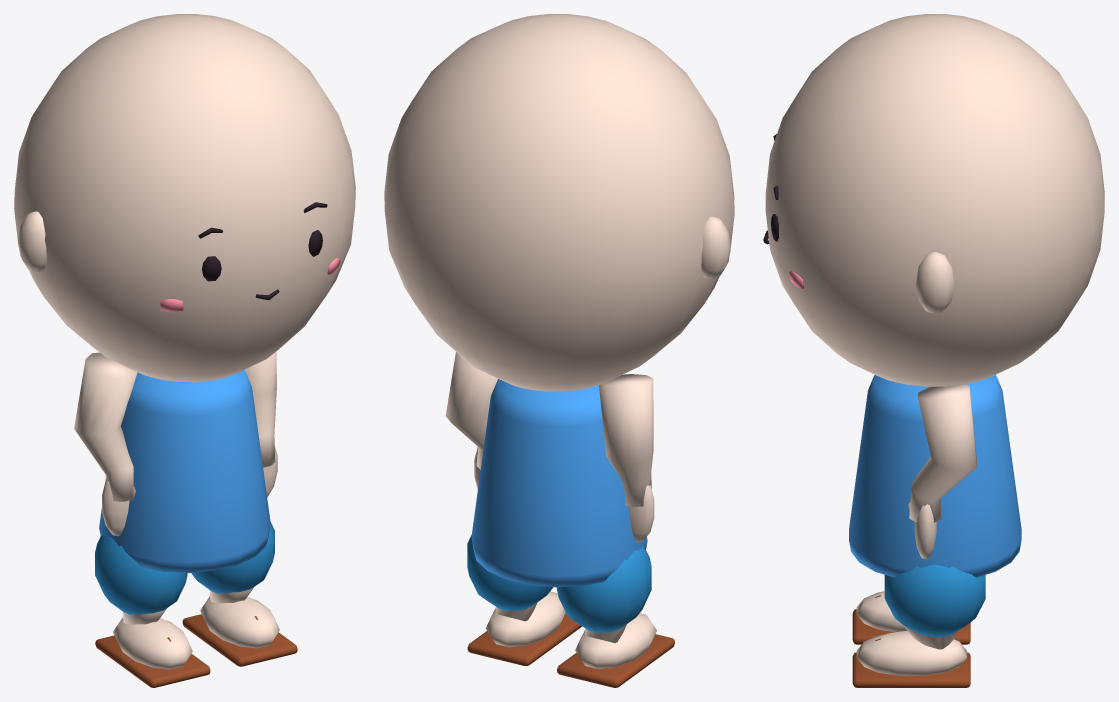
File: hero-girl-tiny.glb
The picture shows the model from 3 angles, left to right: view 1: azimuth 30°, elevation 25°; view 2: azimuth 150°, elevation 25°; view 3: azimuth 270°, elevation 25°; orthographic projection. The views are drawn at different scales.
Parts seen in each view (by area): view 1: head, body, leg-left, leg-right, arm-left, arm-right; view 2: head, body, leg-left, leg-right, arm-left, arm-right; view 3: head, body, leg-right, arm-right, leg-left.
Part boxes in pixels (box(x1,y1,x2,y2)): head: box(14, 14, 355, 382); body: box(99, 370, 270, 572); leg-left: box(95, 533, 210, 687); leg-right: box(182, 522, 297, 666); arm-left: box(74, 352, 137, 536); arm-right: box(245, 351, 277, 496); head: box(384, 14, 734, 391); body: box(471, 379, 647, 587); leg-left: box(556, 547, 674, 687); leg-right: box(467, 535, 581, 665); arm-left: box(599, 374, 654, 542); arm-right: box(445, 352, 497, 489); head: box(763, 14, 1104, 386); body: box(849, 375, 1021, 577); leg-right: box(852, 564, 985, 687); arm-right: box(908, 384, 976, 559); leg-left: box(852, 591, 970, 644).
Bounding box in the file's own units: 0.9058 × 1.62 × 0.8014.
